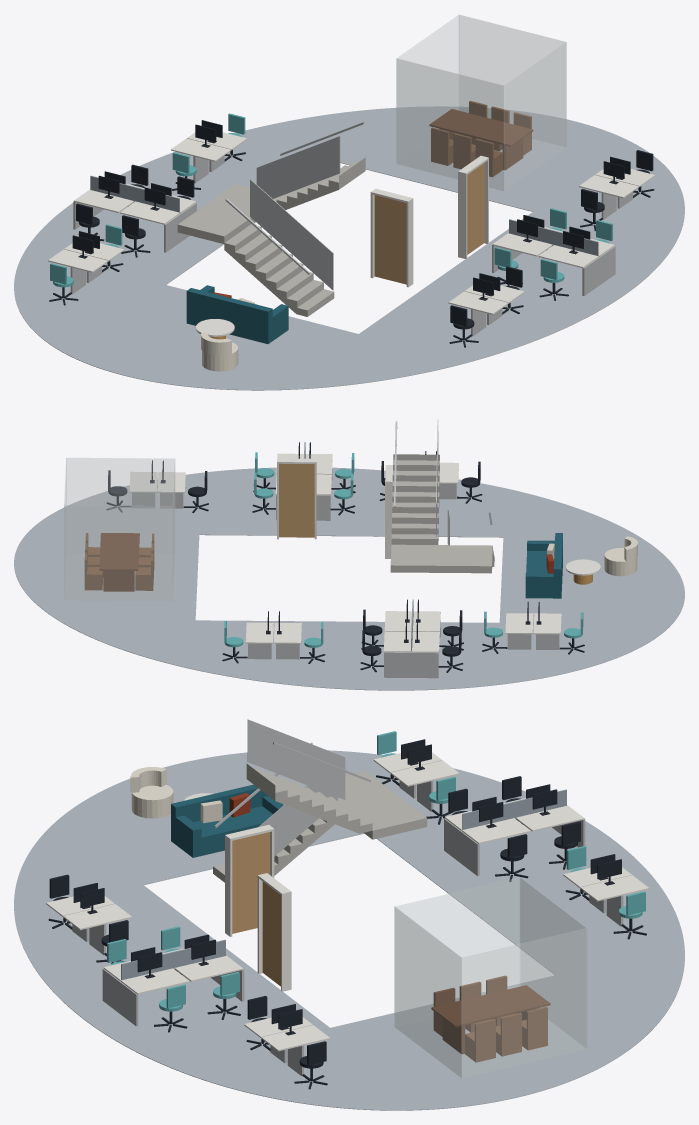
3 views of the same model, one above another, from view 1: azimuth 30°, elevation 25°; view 2: azimuth 150°, elevation 25°; view 3: azimuth 270°, elevation 25° (orthographic). The views are drawn at different scales.
Visible parts, largest first — view 1: Pisos, Mobiliario, Elementos genéricos, Escaleras, Barandales, Puertas, Equipo especial; view 2: Pisos, Mobiliario, Elementos genéricos, Escaleras, Puertas, Equipo especial, Barandales; view 3: Pisos, Mobiliario, Elementos genéricos, Puertas, Escaleras, Barandales, Equipo especial.
Boxes of the visible parts, left/top/right/bottom form: Pisos: left=14, top=106, right=684, bottom=390; Mobiliario: left=48, top=101, right=655, bottom=371; Elementos genéricos: left=396, top=15, right=566, bottom=190; Escaleras: left=177, top=157, right=365, bottom=316; Barandales: left=225, top=122, right=364, bottom=290; Puertas: left=370, top=155, right=488, bottom=287; Equipo especial: left=72, top=120, right=630, bottom=300; Pisos: left=14, top=467, right=684, bottom=690; Mobiliario: left=84, top=442, right=637, bottom=678; Elementos genéricos: left=64, top=457, right=175, bottom=600; Escaleras: left=390, top=454, right=494, bottom=573; Puertas: left=277, top=458, right=392, bottom=558; Equipo especial: left=150, top=442, right=541, bottom=642; Barandales: left=394, top=419, right=492, bottom=545; Pisos: left=14, top=750, right=684, bottom=1110; Mobiliario: left=46, top=731, right=649, bottom=1089; Elementos genéricos: left=394, top=877, right=587, bottom=1077; Puertas: left=225, top=824, right=291, bottom=991; Escaleras: left=213, top=764, right=427, bottom=882; Barandales: left=214, top=719, right=370, bottom=856; Equipo especial: left=73, top=739, right=621, bottom=1035.
Bounding box in the file's own units: 17.21 × 4.03 × 13.54.
